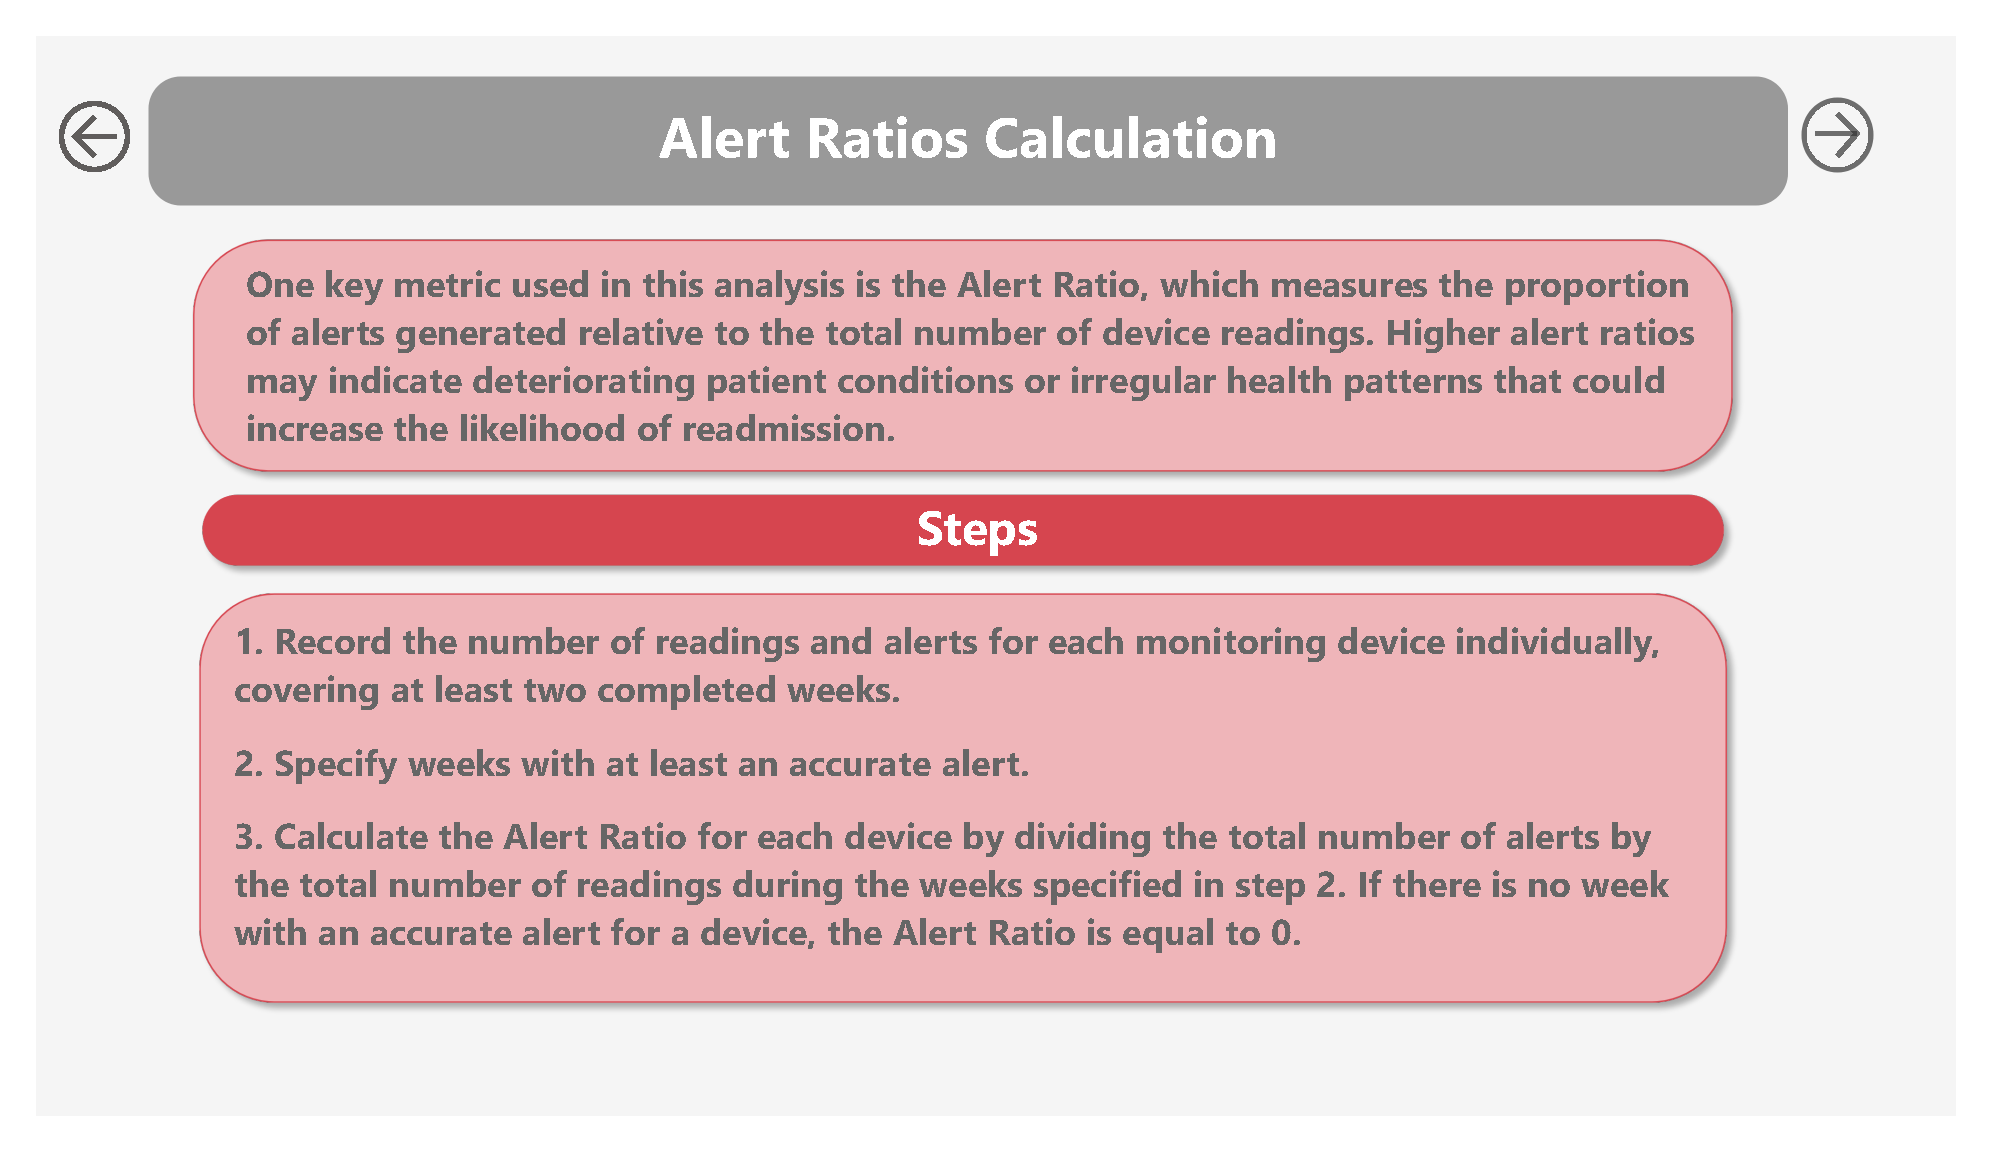

The page's visual inventory and layout, read from the dashboard file:
{"tool":"powerbi","page":{"name":"Alert Ratios Calculation","canvas":[1280,720],"ordinal":2},"visuals":[{"type":"shape","title":"Full Background","box":[0,0,1280.4,720.5],"z":0},{"type":"group","id":"g1","title":"Background 1","box":[99.9,296.6,1036.1,356.4],"z":1000},{"type":"shape","box":[74.8,27,1092.7,85.9],"z":2000},{"type":"shape","box":[101.8,296.6,1032.2,65.5],"z":2000,"group":"g1"},{"type":"shape","box":[96.3,127.1,1043.8,171.4],"z":2500},{"type":"textbox","box":[99.2,36.1,1044.3,67.7],"z":3000},{"type":"shape","box":[99.9,362.2,1036.1,290.8],"z":3000,"group":"g1"},{"type":"textbox","box":[134.8,142.5,986,150.2],"z":5000},{"type":"shape","box":[1177.2,41.8,48.5,49.6],"z":6000,"group":"g2"},{"type":"textbox","box":[425.6,298.5,404.4,59.7],"z":6000},{"type":"actionButton","box":[9,37.2,65.4,59.8],"z":7000},{"type":"actionButton","box":[1180.6,39.5,66.5,54.1],"z":7000,"group":"g2"},{"type":"group","id":"g2","title":"Group 1","box":[1177.2,39.5,69.9,54.1],"z":8000},{"type":"textbox","box":[127.1,381.3,986,277.3],"z":9000}]}

Visuals, with their boxes in screenshot pixels (x1, y1, x2, y2), scaled from the page's 1280x720 canvas onto the 1992x1152 screenshot:
"Full Background" shape: 0, 0, 1991, 1151
"Background 1" group: 155, 475, 1768, 1045
shape: 116, 43, 1817, 181
shape: 158, 475, 1765, 579
shape: 150, 203, 1774, 478
textbox: 154, 58, 1780, 166
shape: 155, 580, 1768, 1045
textbox: 210, 228, 1744, 468
shape: 1832, 67, 1907, 146
textbox: 662, 478, 1292, 573
actionButton: 14, 60, 116, 155
actionButton: 1837, 63, 1941, 150
"Group 1" group: 1832, 63, 1941, 150
textbox: 198, 610, 1732, 1054
